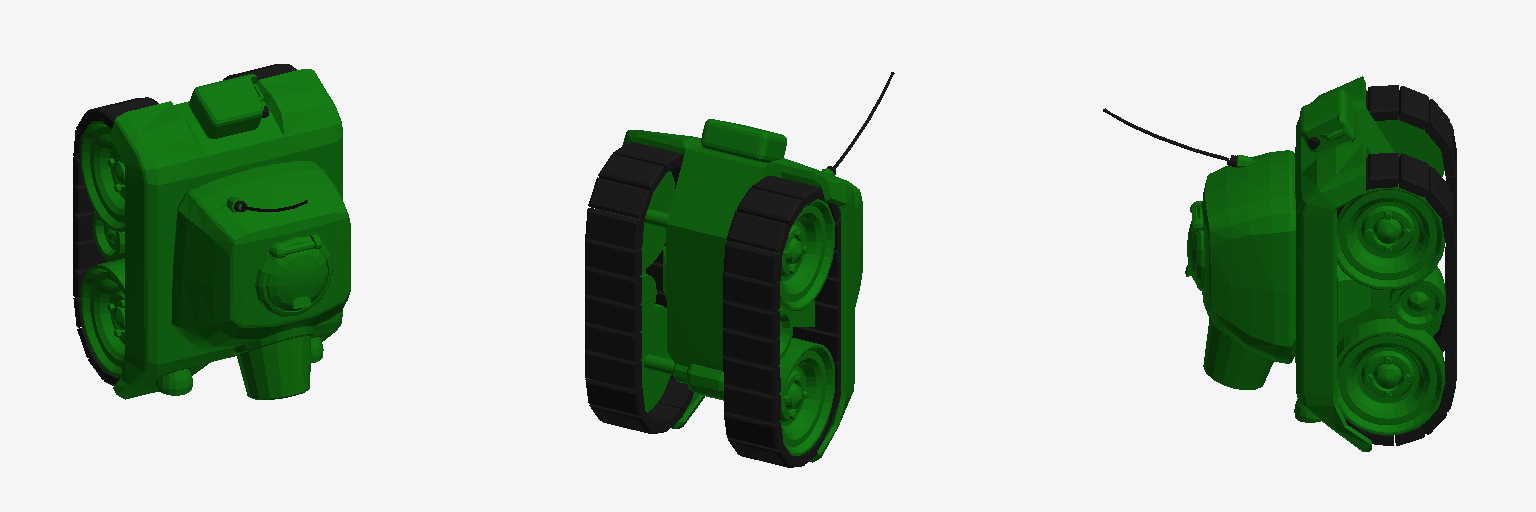
File: Tank3.obj
The picture shows the model from 3 angles: view 1: azimuth 30°, elevation 25°; view 2: azimuth 150°, elevation 25°; view 3: azimuth 270°, elevation 25°; orthographic projection.
Parts seen in each view (by area): view 1: default; view 2: default; view 3: default.
Part boxes in pixels (bbox=[...]): default: bbox=[73, 64, 350, 399]; default: bbox=[585, 72, 894, 467]; default: bbox=[1103, 76, 1456, 451].
Bounding box in the file's own units: 170 × 237 × 249.